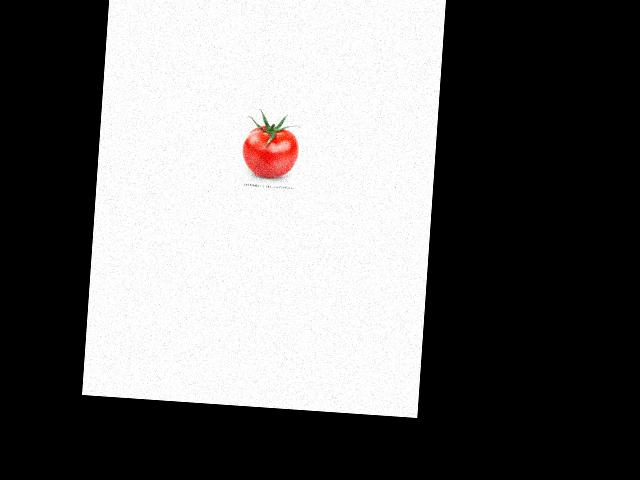tomato: (240, 124, 299, 178)
